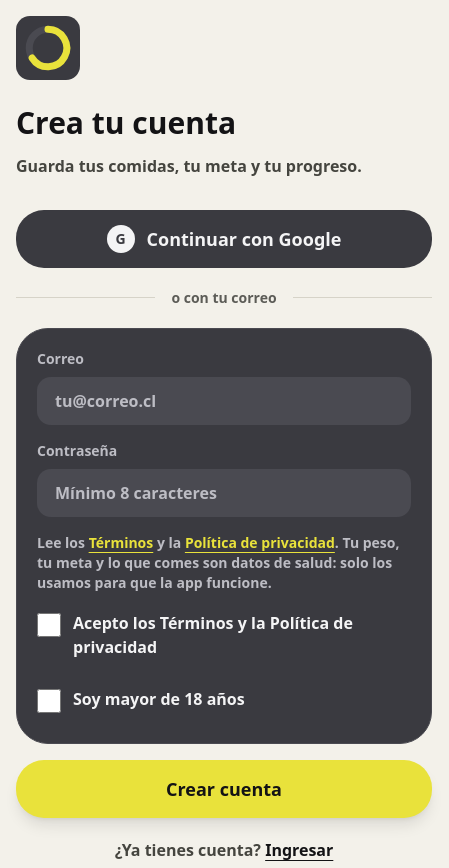
SignupPage › requires accepting the policy and confirming age (HU-01 CA2)
The width and height of the screenshot is (449, 868).
Type "ana@correo.cl" into the field labelled "Correo" at (224, 400), box [37,376,411,424]
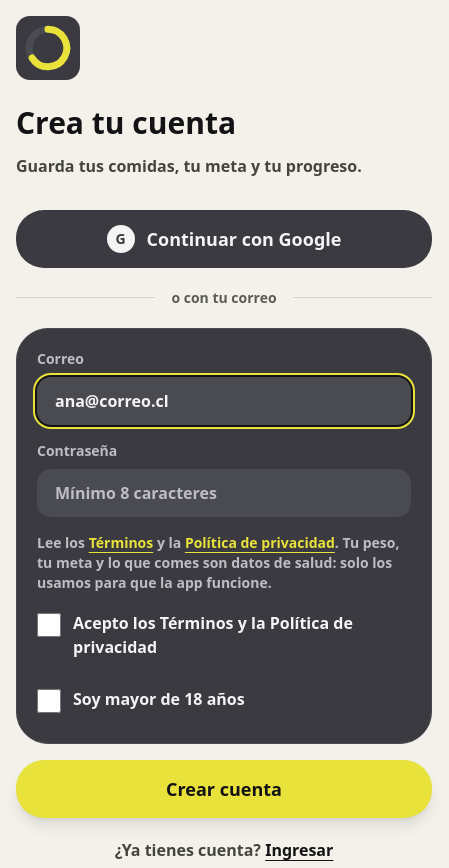
Type "secreta123" into the password field labelled "Contraseña" at (224, 492), box [37,468,411,516]
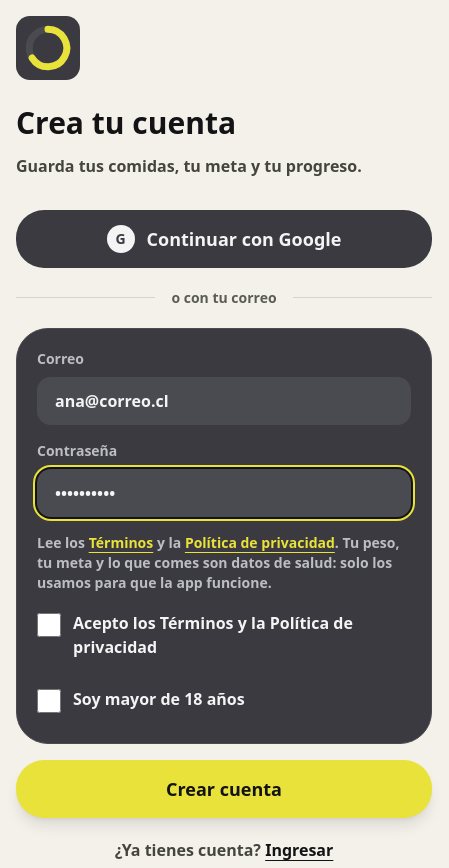
Click the button "Crear cuenta" at (224, 788), box [16,760,432,818]
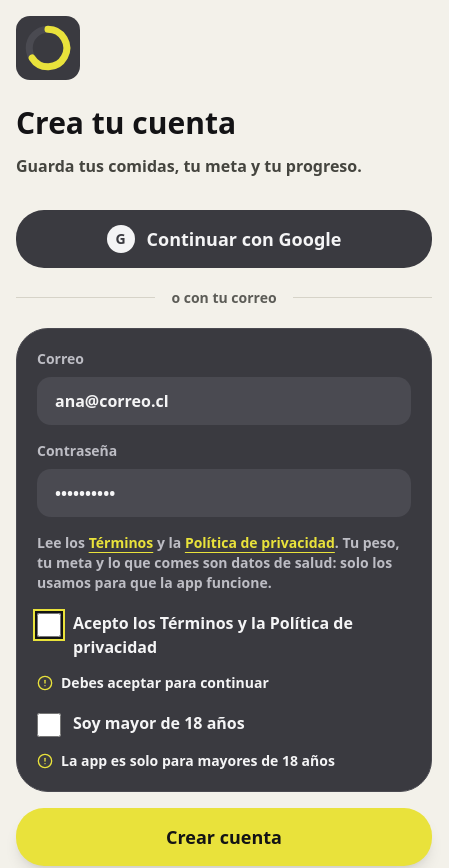
Expected: the text "Debes aceptar para continuar" is shown, [37,672,269,692]
Expected: the text "La app es solo para mayores de 18 años" is shown, [37,750,335,770]
